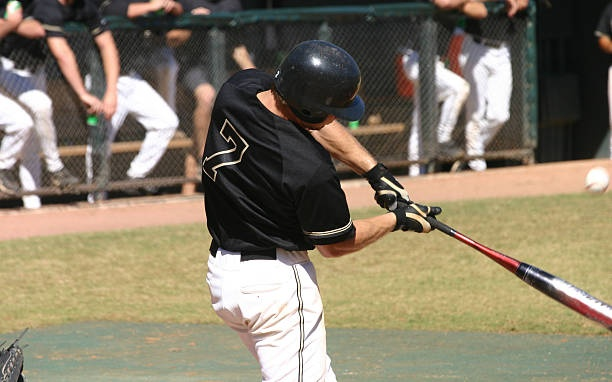bita: (417, 211, 612, 326)
